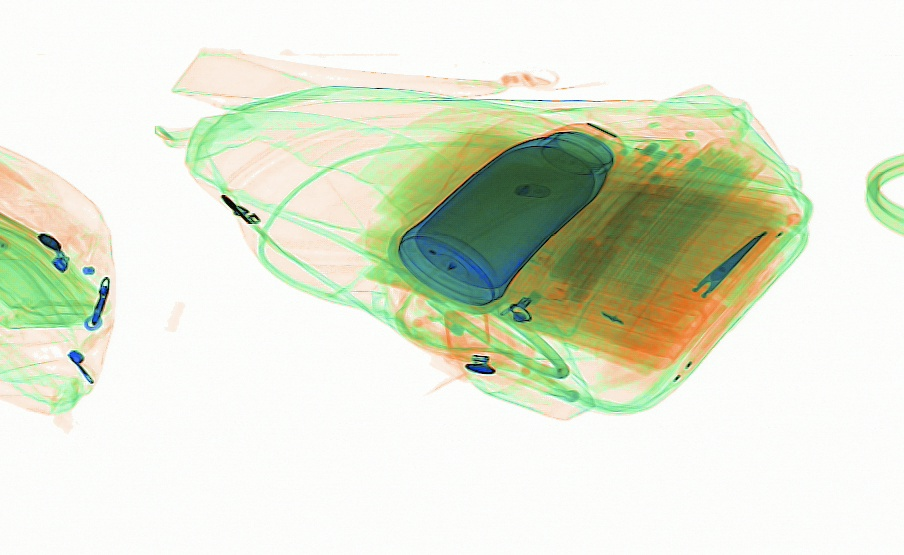scissors: (646, 224, 770, 340)
